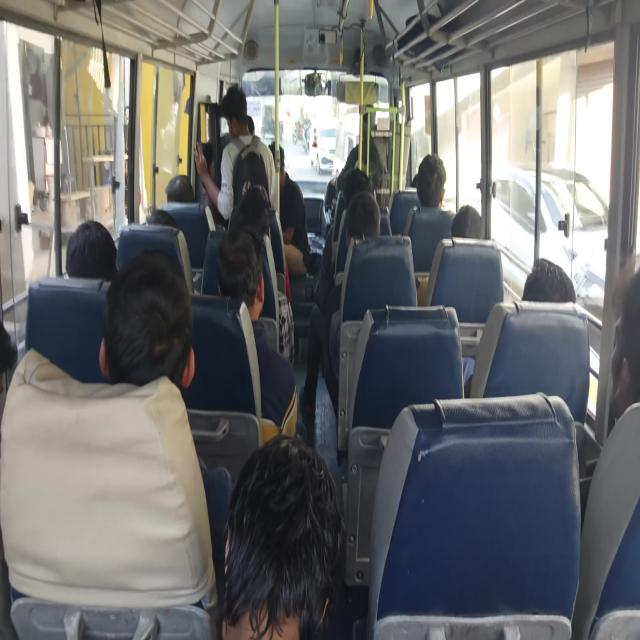person: (241, 439, 388, 640), (103, 265, 206, 417), (581, 265, 640, 412), (216, 230, 271, 328), (55, 208, 119, 283), (221, 87, 272, 168), (515, 256, 578, 314), (0, 315, 39, 399), (446, 199, 497, 263), (230, 197, 282, 257), (335, 187, 385, 247), (264, 145, 305, 202), (414, 141, 451, 203), (165, 170, 204, 228), (144, 190, 177, 246), (241, 182, 282, 224), (345, 150, 373, 198)
